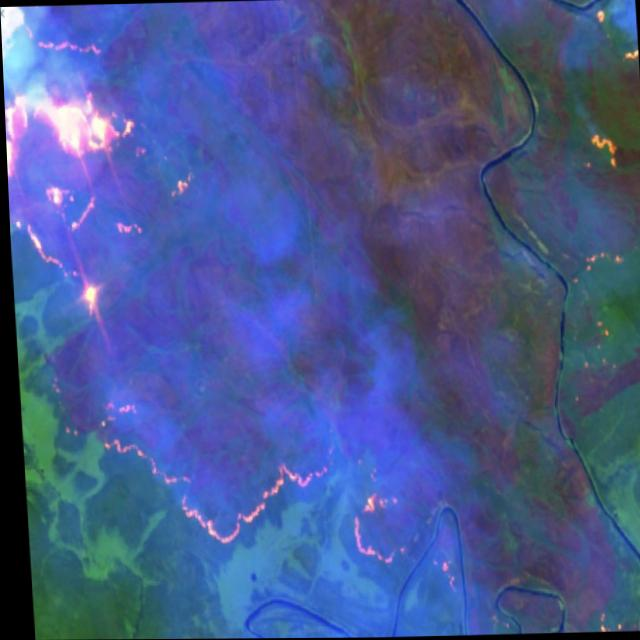fire: (40, 373, 416, 591), (0, 2, 215, 334)
